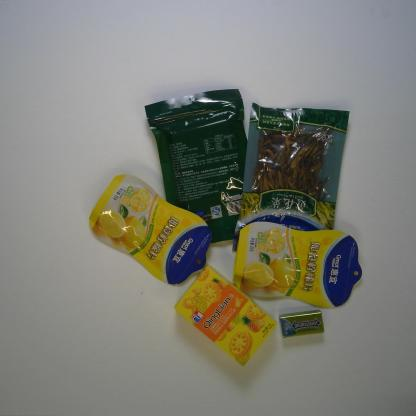Dessert: (173, 266, 277, 371)
Dried Food: (230, 103, 351, 254), (142, 86, 248, 250)
Dried Fruit: (88, 173, 214, 287), (232, 220, 363, 310)
Gum: (277, 308, 326, 341)
